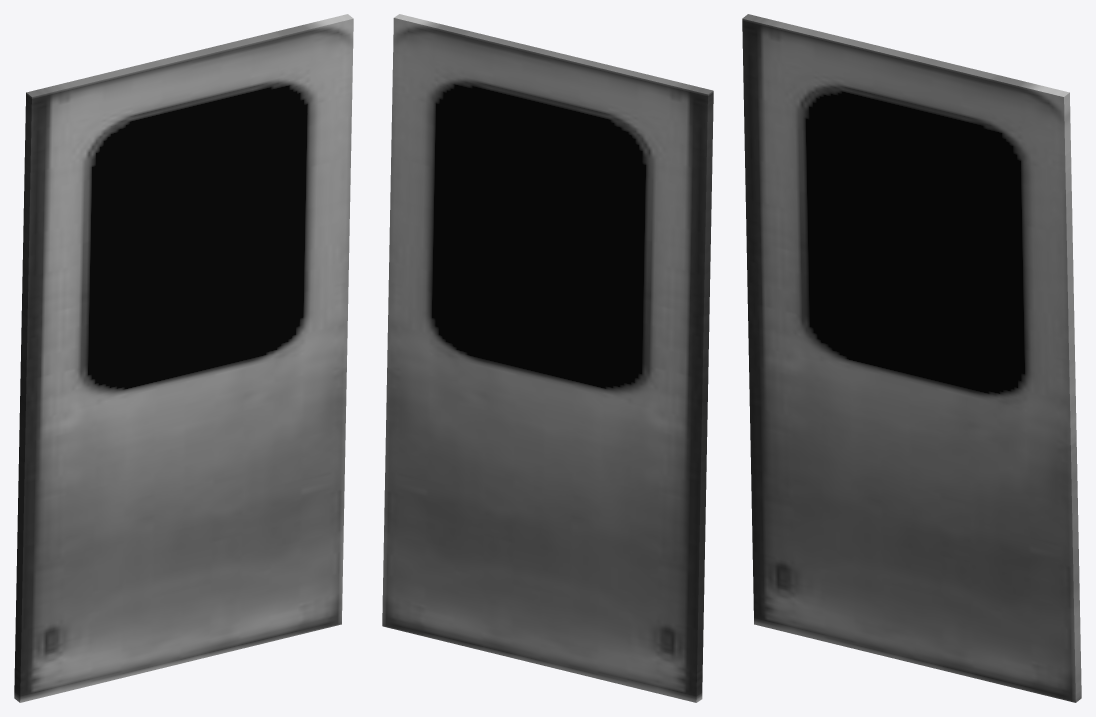
File: train_door.glb
The picture shows the model from 3 angles, left to right: view 1: azimuth 30°, elevation 25°; view 2: azimuth 150°, elevation 25°; view 3: azimuth 330°, elevation 25°; orthographic projection. The views are drawn at different scales.
Parts seen in each view (by area): view 1: Cube.012; view 2: Cube.012; view 3: Cube.012.
Part boxes in pixels (bbox=[...]): Cube.012: bbox=[14, 14, 353, 702]; Cube.012: bbox=[382, 14, 713, 702]; Cube.012: bbox=[742, 14, 1081, 702].
Bounding box in the file's own units: 1.58 × 2.89 × 0.1509.
1 material, 1 textured.
